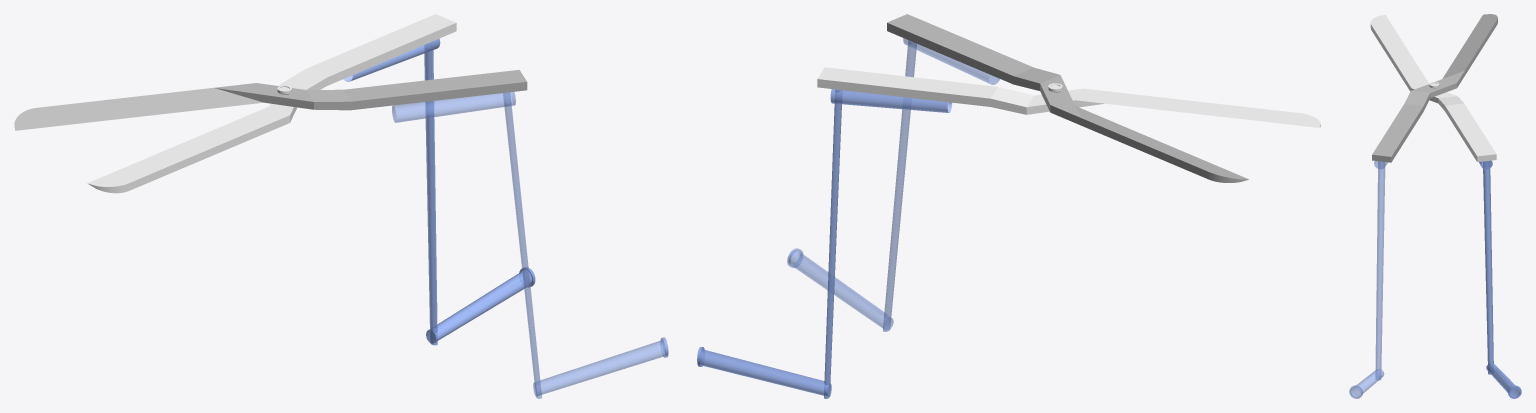
The model's file is Shears.obj.
The picture shows the model from 3 angles, left to right: view 1: azimuth 30°, elevation 25°; view 2: azimuth 150°, elevation 25°; view 3: azimuth 270°, elevation 25°; orthographic projection. The views are drawn at different scales.
Visible parts, largest first — view 1: Mesh5 Group4 Group1 Model, Mesh10 Group5 Model, Mesh8 Group7 Group6 Group5 Model, Mesh3 Group3 Group2 Group1 Model, Mesh2 Group3 Group2 Group1 Model, Mesh1 Group3 Group2 Group1 Model, Mesh7 Group7 Group6 Group5 Model, Mesh6 Group7 Group6 Group5 Model; view 2: Mesh10 Group5 Model, Mesh5 Group4 Group1 Model, Mesh8 Group7 Group6 Group5 Model, Mesh3 Group3 Group2 Group1 Model, Mesh7 Group7 Group6 Group5 Model, Mesh2 Group3 Group2 Group1 Model, Mesh6 Group7 Group6 Group5 Model, Mesh1 Group3 Group2 Group1 Model; view 3: Mesh5 Group4 Group1 Model, Mesh10 Group5 Model, Mesh3 Group3 Group2 Group1 Model, Mesh8 Group7 Group6 Group5 Model, Mesh7 Group7 Group6 Group5 Model, Mesh2 Group3 Group2 Group1 Model.
Boxes of the visible parts, x1,y1,x2,y2 form: Mesh5 Group4 Group1 Model: (14, 69, 527, 130); Mesh10 Group5 Model: (87, 14, 456, 193); Mesh8 Group7 Group6 Group5 Model: (424, 41, 437, 345); Mesh3 Group3 Group2 Group1 Model: (503, 92, 541, 398); Mesh2 Group3 Group2 Group1 Model: (533, 337, 668, 396); Mesh1 Group3 Group2 Group1 Model: (392, 92, 515, 122); Mesh7 Group7 Group6 Group5 Model: (426, 267, 535, 343); Mesh6 Group7 Group6 Group5 Model: (343, 38, 440, 81); Mesh10 Group5 Model: (817, 67, 1320, 127); Mesh5 Group4 Group1 Model: (887, 14, 1248, 182); Mesh8 Group7 Group6 Group5 Model: (824, 89, 842, 398); Mesh3 Group3 Group2 Group1 Model: (883, 40, 916, 331); Mesh7 Group7 Group6 Group5 Model: (697, 347, 831, 396); Mesh2 Group3 Group2 Group1 Model: (787, 248, 893, 330); Mesh6 Group7 Group6 Group5 Model: (830, 89, 952, 112); Mesh1 Group3 Group2 Group1 Model: (903, 38, 999, 84); Mesh5 Group4 Group1 Model: (1372, 14, 1497, 162); Mesh10 Group5 Model: (1370, 14, 1496, 161); Mesh3 Group3 Group2 Group1 Model: (1375, 161, 1385, 380); Mesh8 Group7 Group6 Group5 Model: (1483, 161, 1493, 374); Mesh7 Group7 Group6 Group5 Model: (1486, 363, 1521, 398); Mesh2 Group3 Group2 Group1 Model: (1349, 369, 1383, 398).
Bounding box in the file's own units: 83.72 × 47.59 × 32.89.
